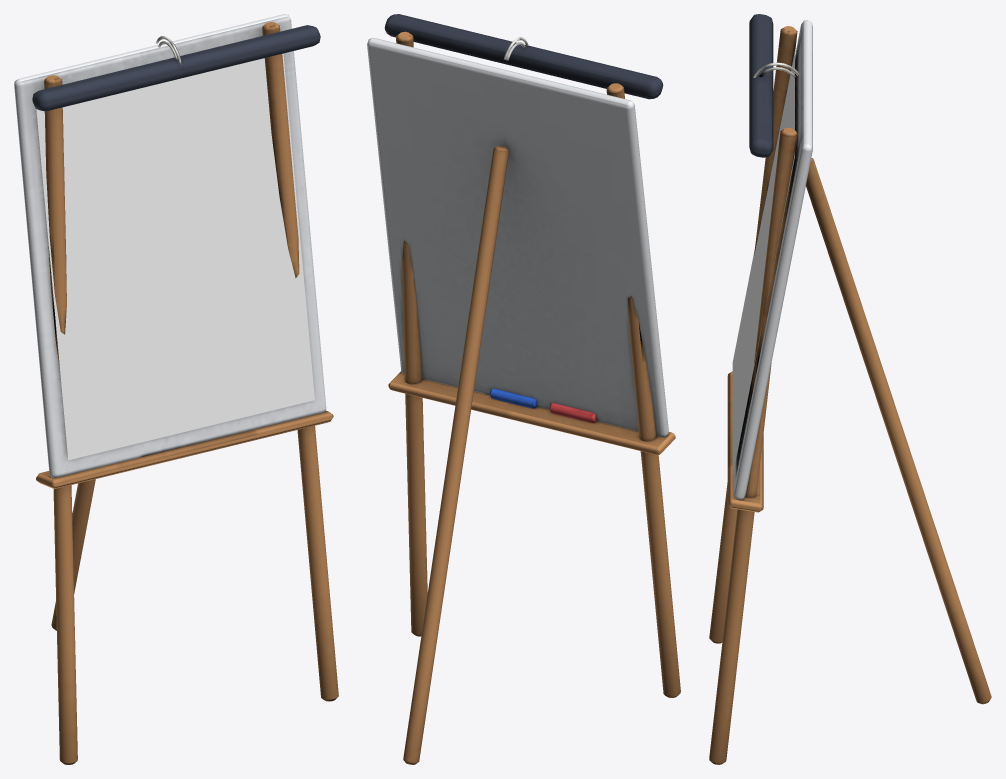
Rendered from flipchart.glb.
3 views of the same model, side by side, from view 1: azimuth 30°, elevation 25°; view 2: azimuth 150°, elevation 25°; view 3: azimuth 270°, elevation 25° (orthographic). The views are drawn at different scales.
Visible parts, largest first — view 1: flipchart; view 2: flipchart; view 3: flipchart.
Boxes of the visible parts, x1,y1,x2,y2 form: flipchart: [14, 14, 338, 764]; flipchart: [367, 14, 680, 764]; flipchart: [709, 14, 991, 764].
Size of the model in its own units: 0.78 by 1.77 by 0.7075.
Materials: 7 (6 with a texture image).
